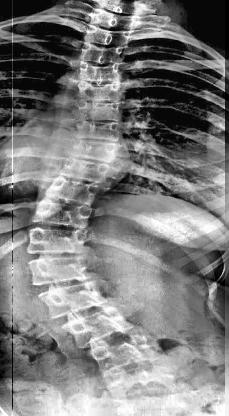Vertebrae: (92, 327, 164, 377), (61, 304, 137, 350), (38, 279, 106, 319), (24, 225, 88, 257), (26, 254, 89, 286), (43, 176, 105, 208), (32, 199, 92, 229), (57, 158, 112, 184), (68, 137, 121, 163), (72, 116, 124, 142), (82, 23, 132, 49), (74, 97, 124, 123), (74, 80, 126, 104), (76, 60, 124, 84), (78, 44, 128, 67)
